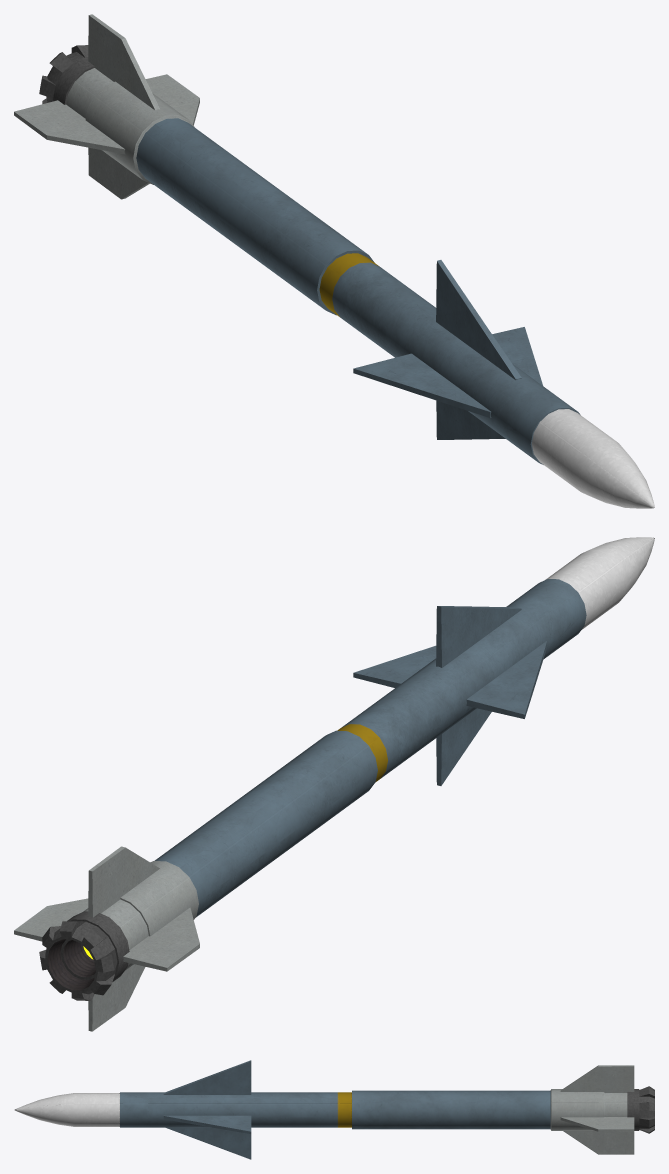
File: basic_missle.glb
The picture shows the model from 3 angles, top to bottom: view 1: azimuth 30°, elevation 25°; view 2: azimuth 150°, elevation 25°; view 3: azimuth 270°, elevation 25°; orthographic projection. The views are drawn at different scales.
Parts seen in each view (by area): view 1: Object_2; view 2: Object_2; view 3: Object_2.
Boxes of the visible parts, x1,y1,x2,y2 form: Object_2: (14, 14, 654, 508); Object_2: (14, 537, 654, 1031); Object_2: (14, 1060, 654, 1159).
Size of the model in its own units: 1.3 by 1.3 by 7.68.
1 material, 1 textured.
